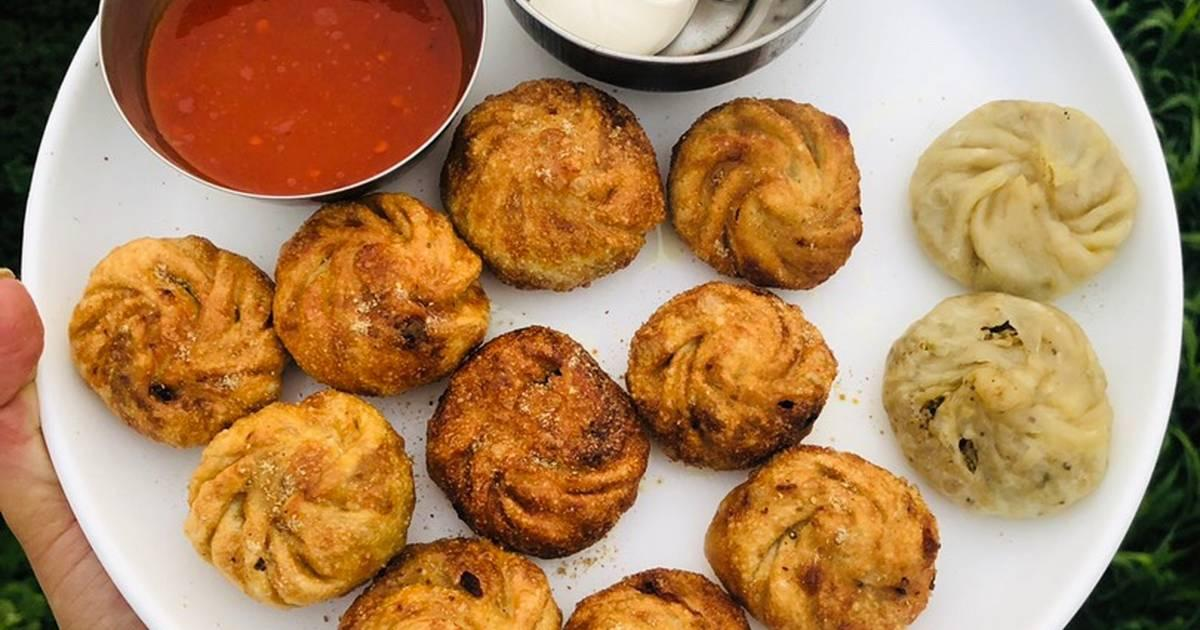momos: (884, 293, 1113, 518), (185, 391, 415, 607), (909, 101, 1137, 301), (70, 237, 286, 448), (185, 434, 415, 606)
